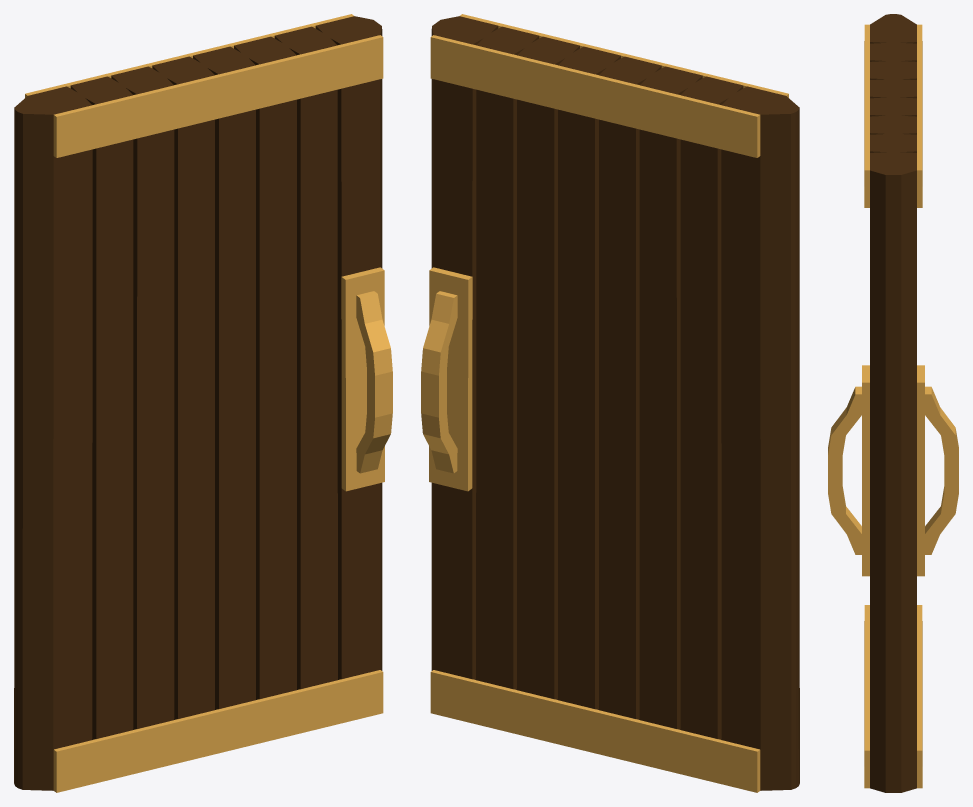
The model's file is doorBoss.fbx.
3 renders of one model, left to right at view 1: azimuth 30°, elevation 25°; view 2: azimuth 150°, elevation 25°; view 3: azimuth 270°, elevation 25°, orthographic. The views are drawn at different scales.
Parts seen in each view (by area): view 1: doorBoss; view 2: doorBoss; view 3: doorBoss.
Part boxes in pixels (box(x1,y1,x2,y2)): doorBoss: box(14, 14, 392, 792); doorBoss: box(421, 14, 799, 792); doorBoss: box(828, 14, 958, 792).
Size of the model in its own units: 140 by 250 by 48.02.
